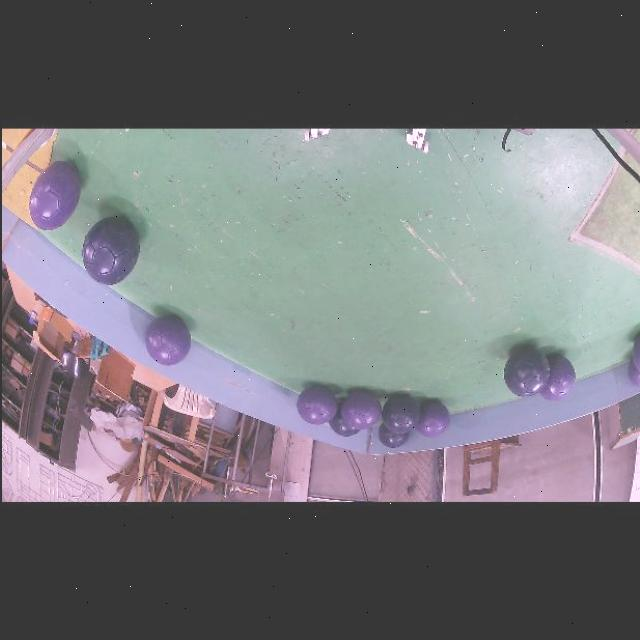B: (80, 216, 137, 285), (502, 346, 549, 397), (380, 395, 419, 433), (327, 404, 359, 437), (377, 424, 409, 447)
P: (27, 160, 79, 229), (144, 315, 189, 365), (538, 354, 574, 401), (296, 385, 336, 424), (340, 390, 380, 429), (414, 401, 449, 437), (627, 357, 640, 387), (631, 331, 640, 372)
